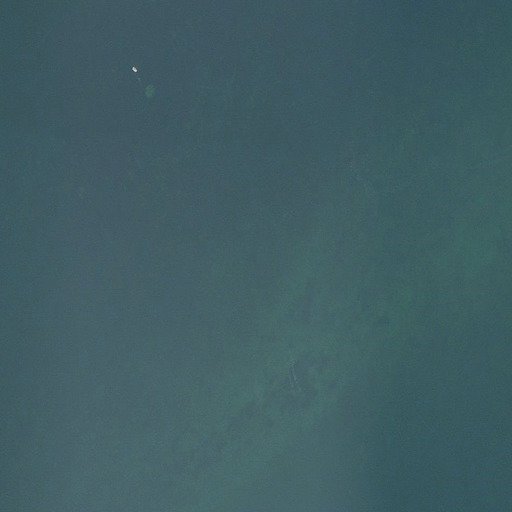ship: (130, 65, 136, 73)
